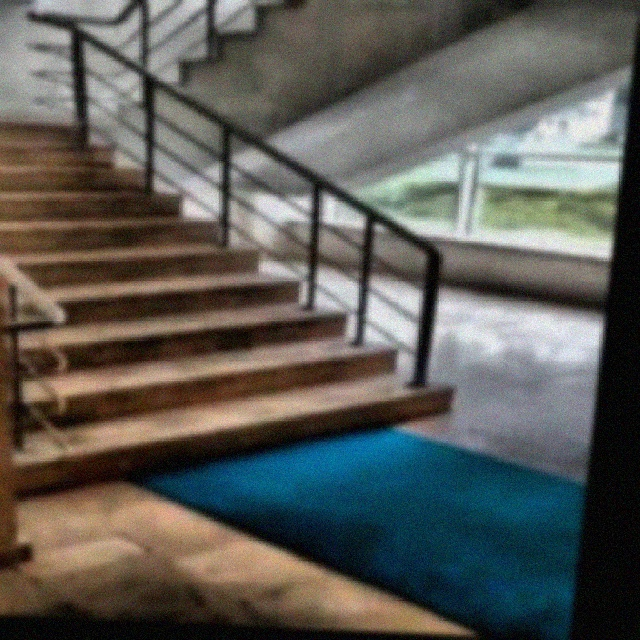stair: (1, 72, 517, 522)
